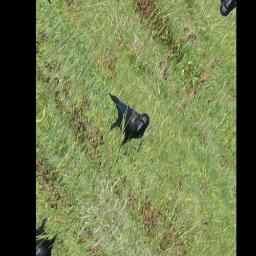Crow: (94, 74, 152, 159)
